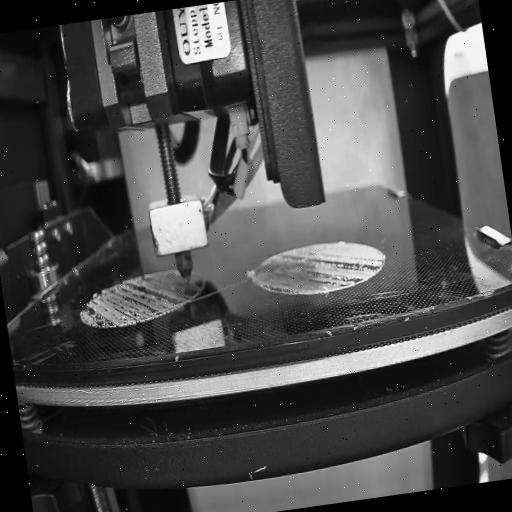under_extrusion: (258, 244, 386, 298), (80, 276, 190, 332)
